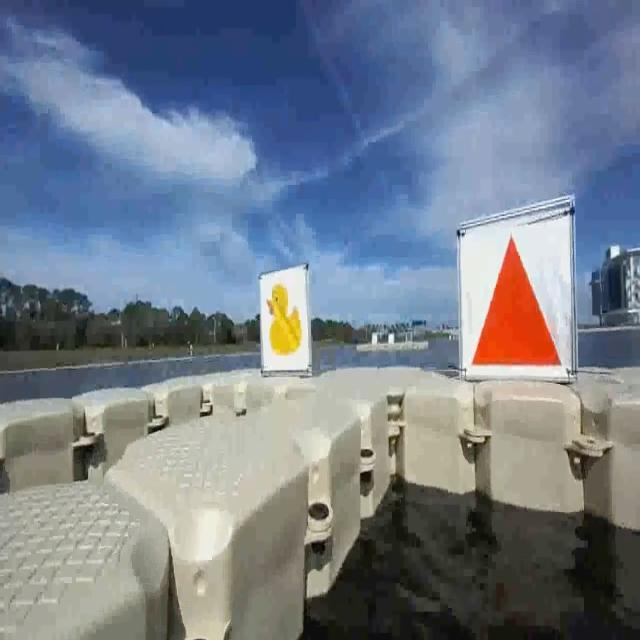red-dot: (461, 231, 565, 387)
yellow-duck: (265, 281, 303, 355)
